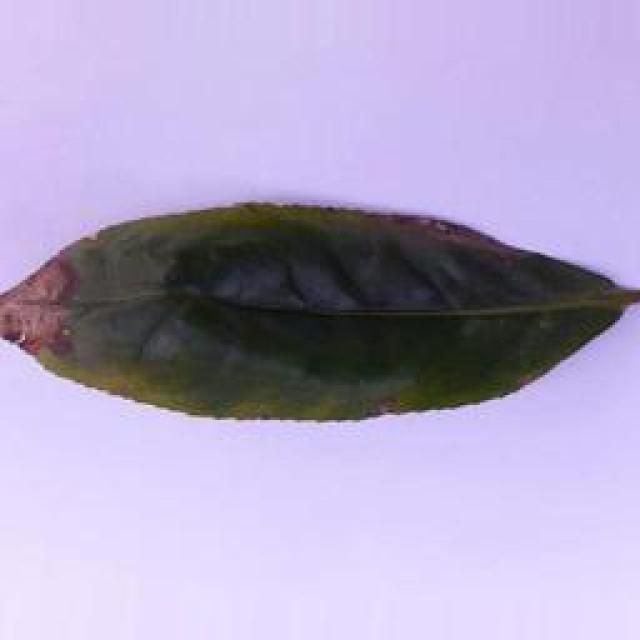Gray Blight: (0, 196, 640, 424)
